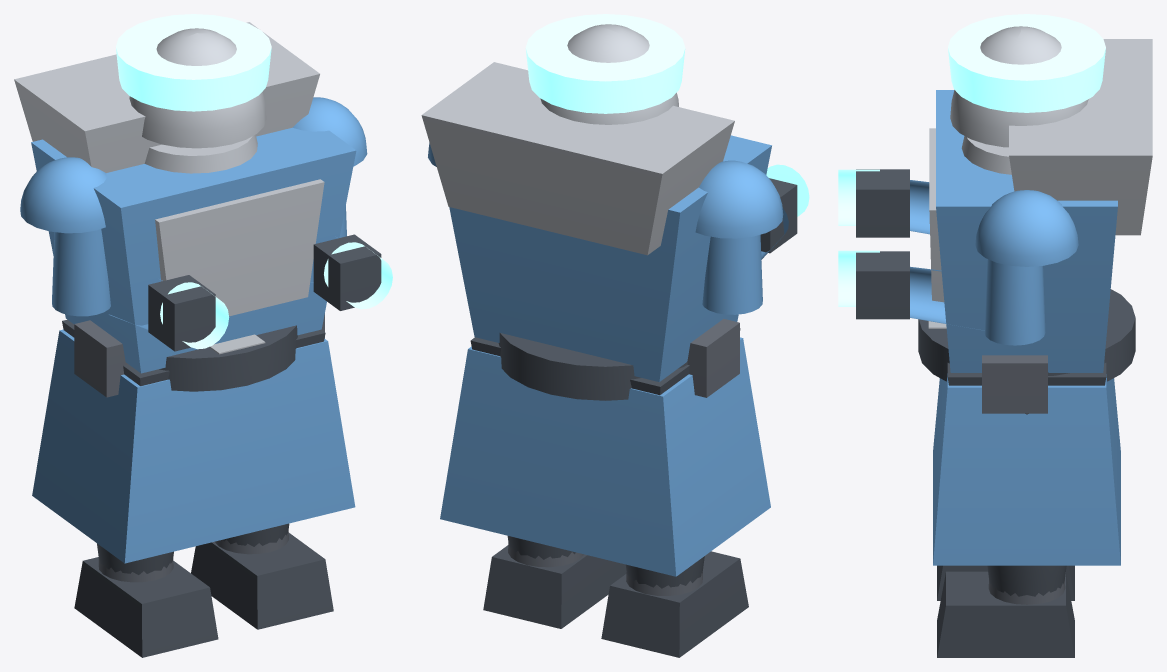
File: ptroop.glb
3 renders of one model, left to right at view 1: azimuth 30°, elevation 25°; view 2: azimuth 150°, elevation 25°; view 3: azimuth 270°, elevation 25°, orthographic. The views are drawn at different scales.
Parts seen in each view (by area): view 1: Hull; view 2: Hull; view 3: Hull.
Boxes of the visible parts, x1,y1,x2,y2 form: Hull: [14, 14, 392, 657]; Hull: [421, 14, 809, 657]; Hull: [838, 14, 1152, 657].
Size of the model in its own units: 0.62 by 1.01 by 0.4988.
